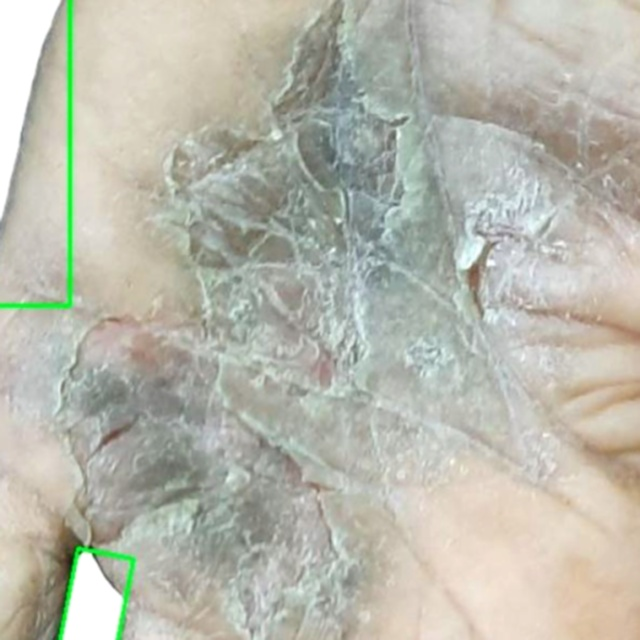Contact Dermatitis: (0, 0, 70, 306), (60, 548, 133, 639)
